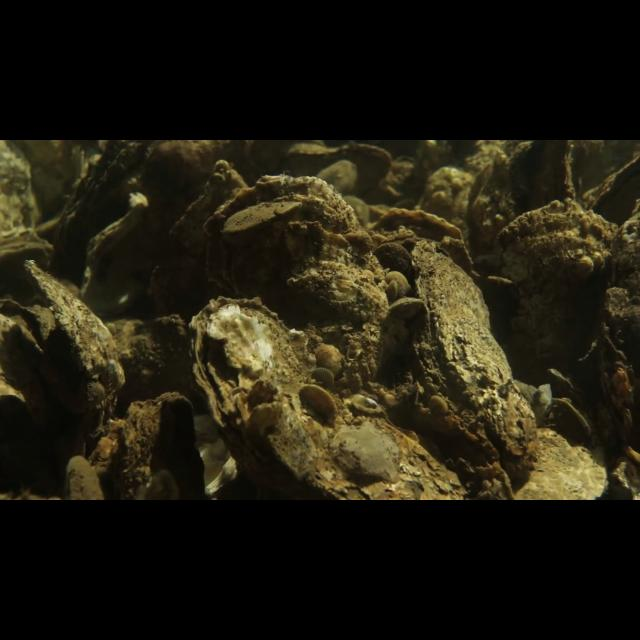Oyster-Closed: (183, 290, 471, 500), (202, 170, 393, 389), (407, 236, 541, 493), (486, 195, 623, 365), (23, 255, 130, 453), (46, 141, 157, 271), (90, 391, 210, 500), (74, 199, 150, 304), (279, 141, 395, 195), (216, 192, 308, 252), (552, 395, 599, 439), (1, 240, 54, 263), (1, 221, 47, 241)
Oyster-Open: (366, 201, 483, 281)
